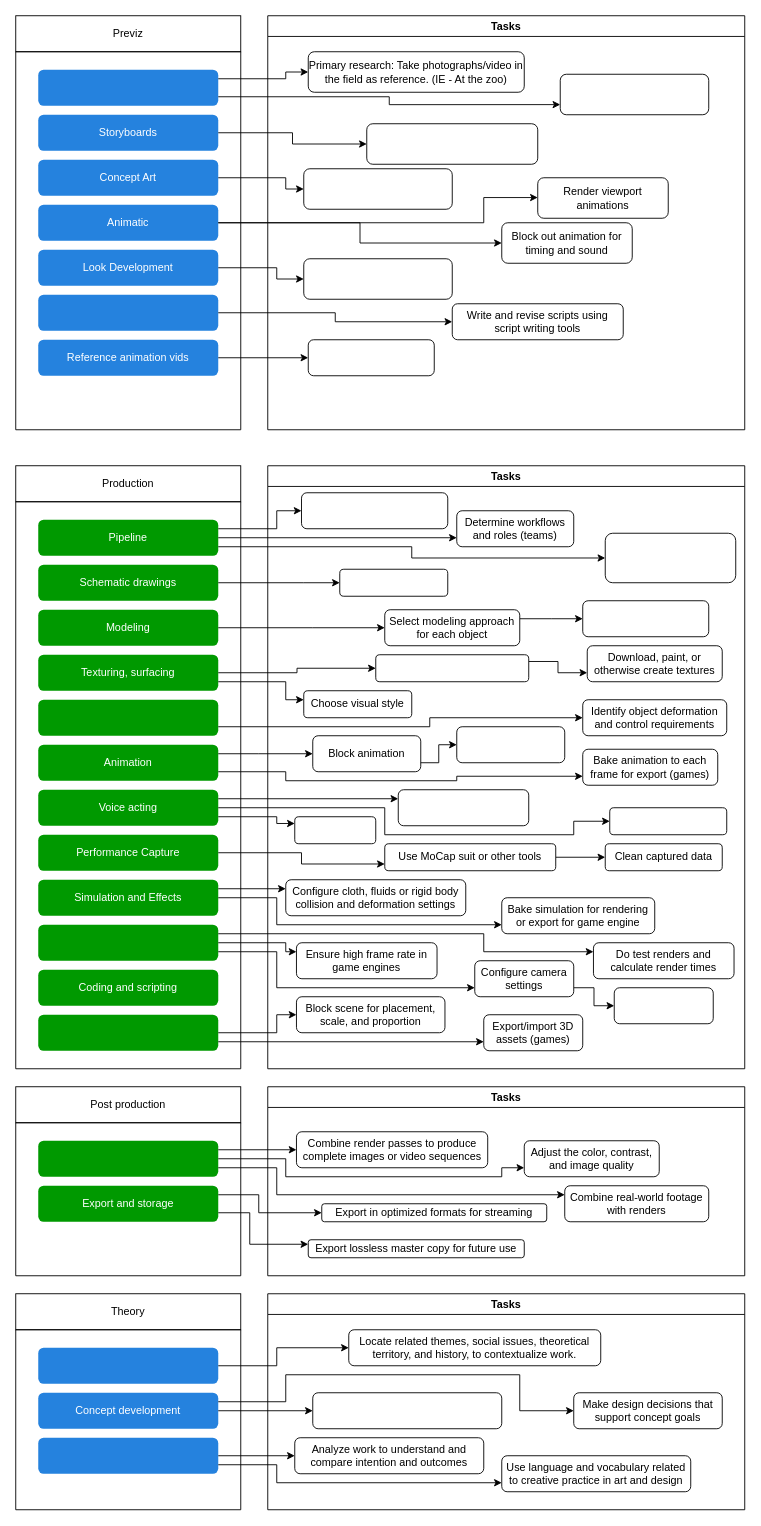
This 761x1526 diagram has some shape labels left out. Each missing label, with the centre of its shape:
"Articulate and communicate linked ideas, questions, or explorations" goes at (407,1410).
"Compositing and color grading" goes at (128,1158).
"Configure high quality settings" goes at (663,1005).
"Critique" goes at (128,1455).
"Determine production requirements and constraints" goes at (670,557).
"Draw chronological storyboards, with notes about each shot." goes at (452,143).
"draw or find" goes at (393,582).
"Explore aesthetic and style with render experiements" goes at (377,278).
"Find or make video reference animations" goes at (370,357).
"Find voice actor and provide script" goes at (463,807).
"Identify production software." goes at (374,510).
"Model and refine objects for good edgeflow" goes at (645,618).
"References" goes at (128,87).
"Refine performance w/ graph curves" goes at (510,744).
"Rendering" goes at (128,942).
"Research" goes at (128,1365).
"Rigging" goes at (128,717).
"Scene layout" goes at (128,1032).
"Script writing" goes at (128,312).
"Secondary research: Library or Internet searches" goes at (634,94).
"Sync with animation" goes at (668,821).
"Use drawing and painting to make design decisions" goes at (377,188).
"UV projection, unwrapping" goes at (452,668).
"Write script" goes at (335,830).
